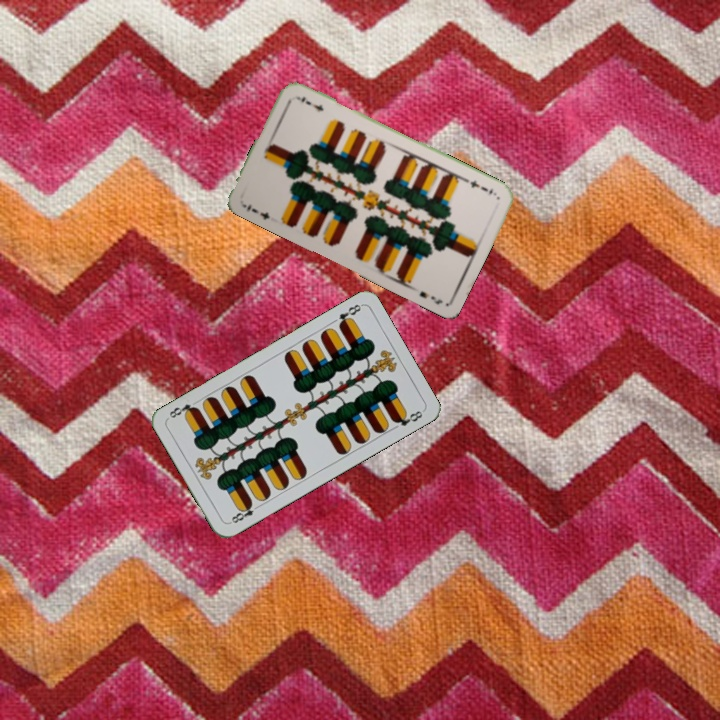E7: (462, 175, 499, 198), (242, 200, 272, 222)
E8: (225, 498, 263, 526), (334, 300, 364, 330)
